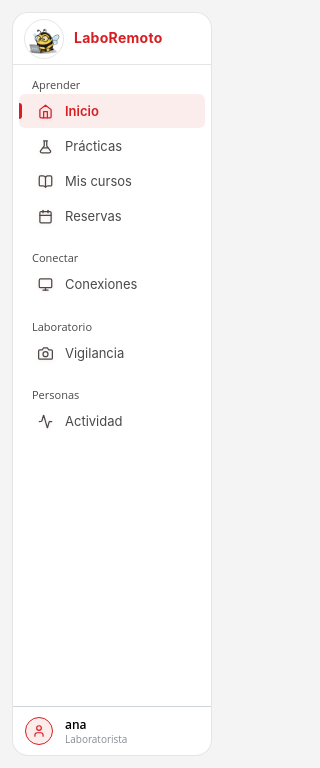
Test case: Sidebar › quien usa el tema institucional no ve Temas en el menú
Click the element showing "ana Laboratorista" at (76, 731), box [25, 716, 127, 746]
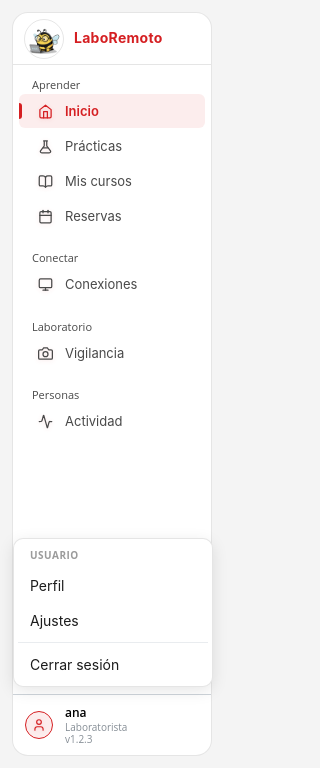
Expected: the menu item "Perfil" is shown, [18, 568, 208, 603]
